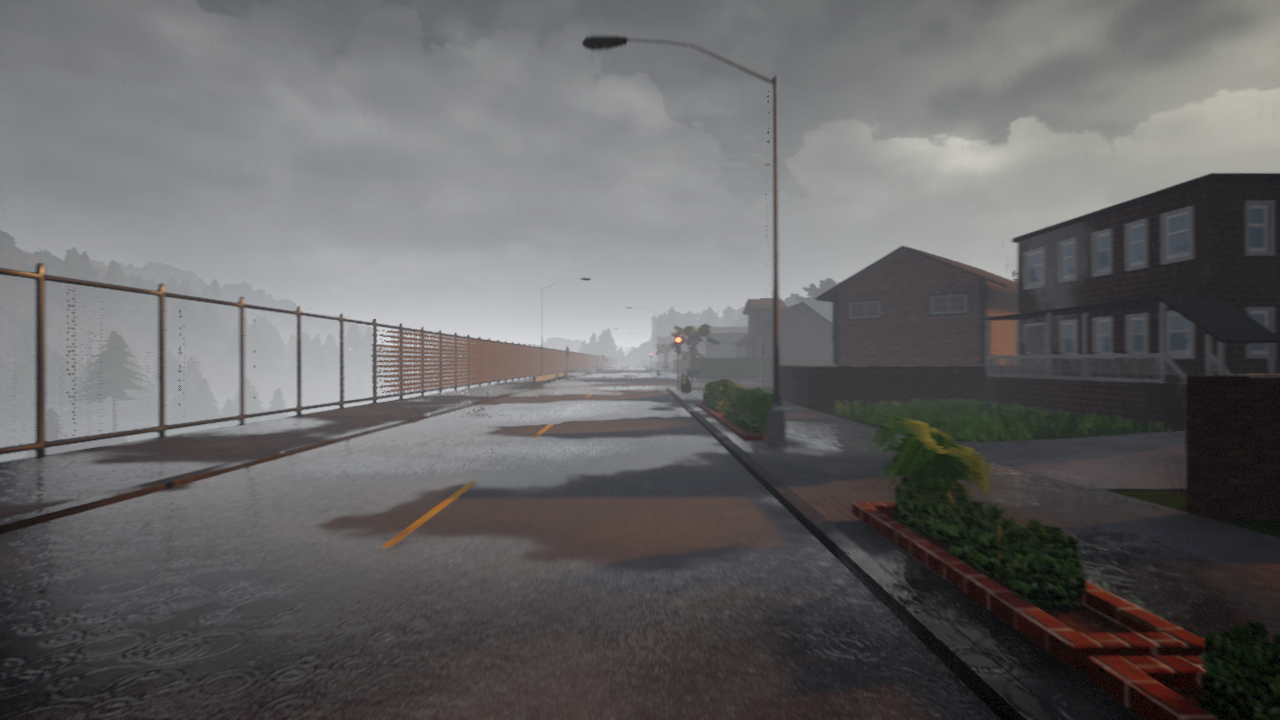red: (674, 335, 682, 355)
